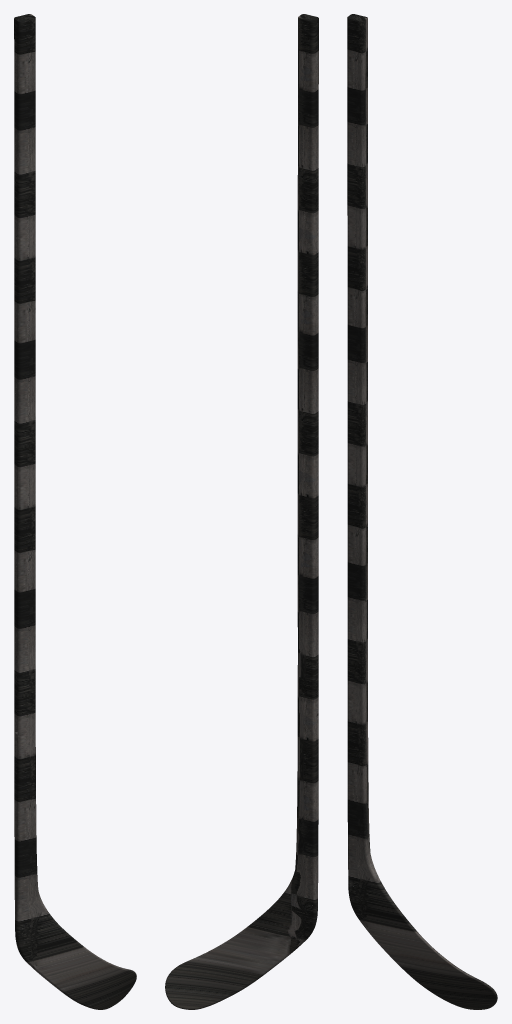
The picture shows the model from 3 angles, left to right: view 1: azimuth 30°, elevation 25°; view 2: azimuth 150°, elevation 25°; view 3: azimuth 330°, elevation 25°; orthographic projection. The views are drawn at different scales.
Visible parts, largest first — view 1: geometry_0; view 2: geometry_0; view 3: geometry_0.
Part boxes in pixels (x1,y1,x2,y2): geometry_0: [14, 14, 136, 1009]; geometry_0: [165, 14, 318, 1009]; geometry_0: [347, 14, 497, 1009].
Size of the model in its own units: 231 by 1650 by 71.4.
1 material, 1 textured.
